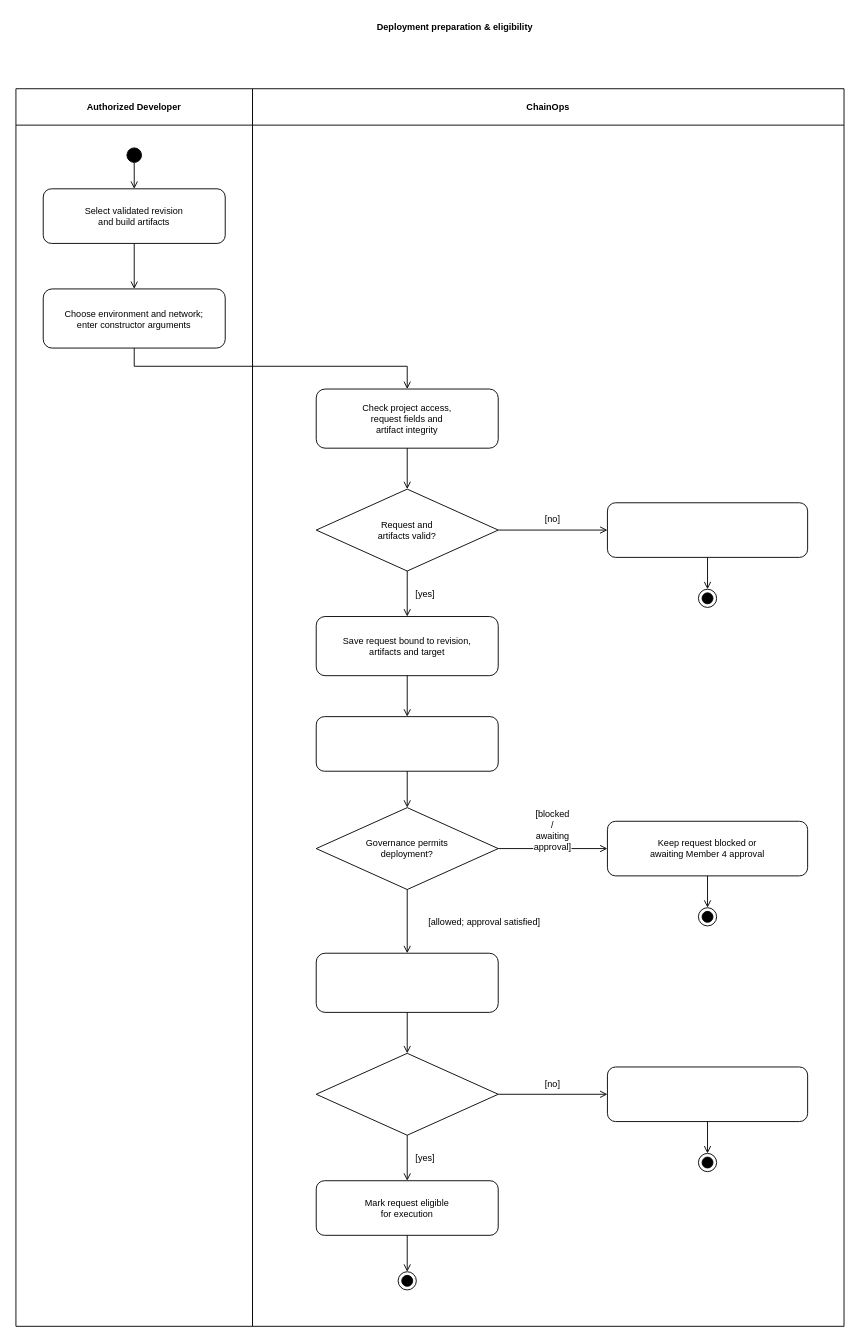
This 860x1342 diagram has some shape labels left out. The centre of each missing label's shape, as x and y in pixels:
Check RPC network, gas estimate, balance and nonce: point (406, 982)
Read policy result and any required approval: point (406, 743)
Show errors and return request for correction: point (707, 529)
Show readiness failure and required correction: point (707, 1094)
Transaction ready?: point (406, 1093)
